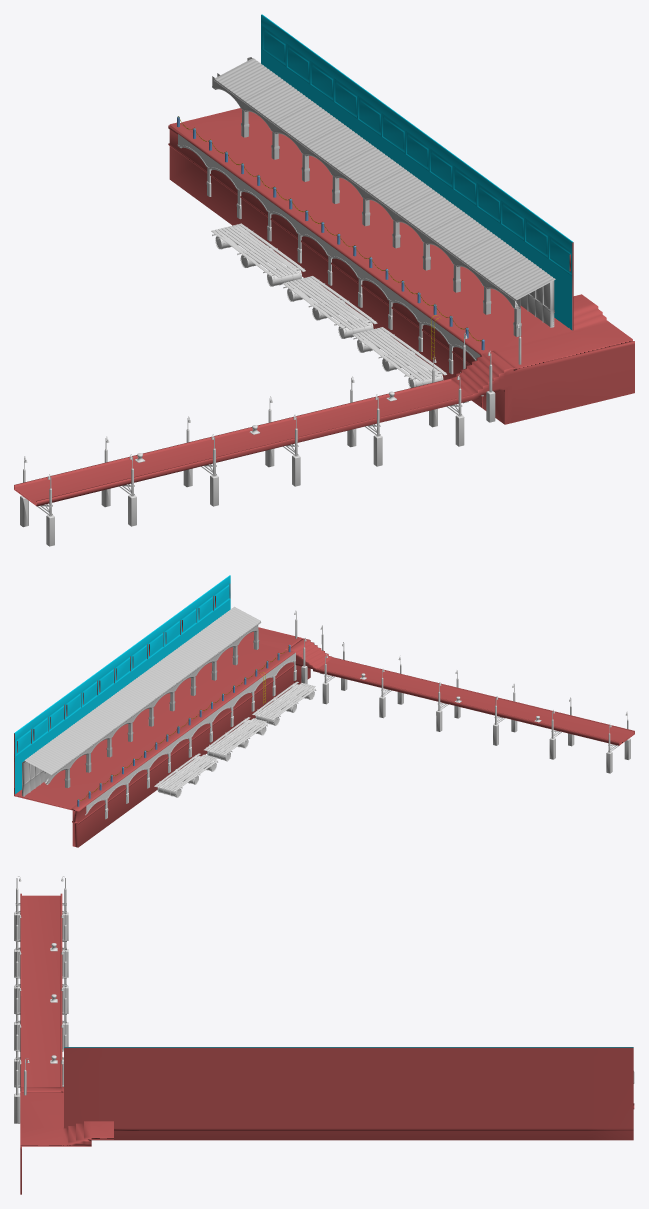
File: port.fbx
The picture shows the model from 3 angles, top to bottom: view 1: azimuth 30°, elevation 25°; view 2: azimuth 150°, elevation 25°; view 3: azimuth 270°, elevation 25°; orthographic projection. The views are drawn at different scales.
Parts seen in each view (by area): view 1: main (×2), Cloner_1 (×2), Cloner (×2), Cloner_2, flower_2, flower_1, flower, Cloner_2_2; view 2: main (×2), Cloner_1 (×2), Cloner (×2), Cloner_2, flower_2, flower_1, flower, Cloner_2_2; view 3: main (×2), Cloner (×2).
Part boxes in pixels (x1,y1,x2,y2): main (×2): (14,14,634,506); Cloner_1 (×2): (212,57,555,336); Cloner (×2): (20,356,464,546); Cloner_2: (177,134,483,396); flower_2: (211,223,305,286); flower_1: (282,276,377,338); flower: (352,327,447,388); Cloner_2_2: (177,116,484,350); main (×2): (14,575,634,847); Cloner_1 (×2): (22,606,260,796); Cloner (×2): (322,642,630,773); Cloner_2: (85,652,296,819); flower_2: (154,753,218,797); flower_1: (204,717,267,761); flower: (252,681,316,725); Cloner_2_2: (77,644,290,806); main (×2): (20,893,634,1194); Cloner (×2): (14,876,68,1123).
Bounding box in the file's own units: 5706 × 1365 × 5609.
